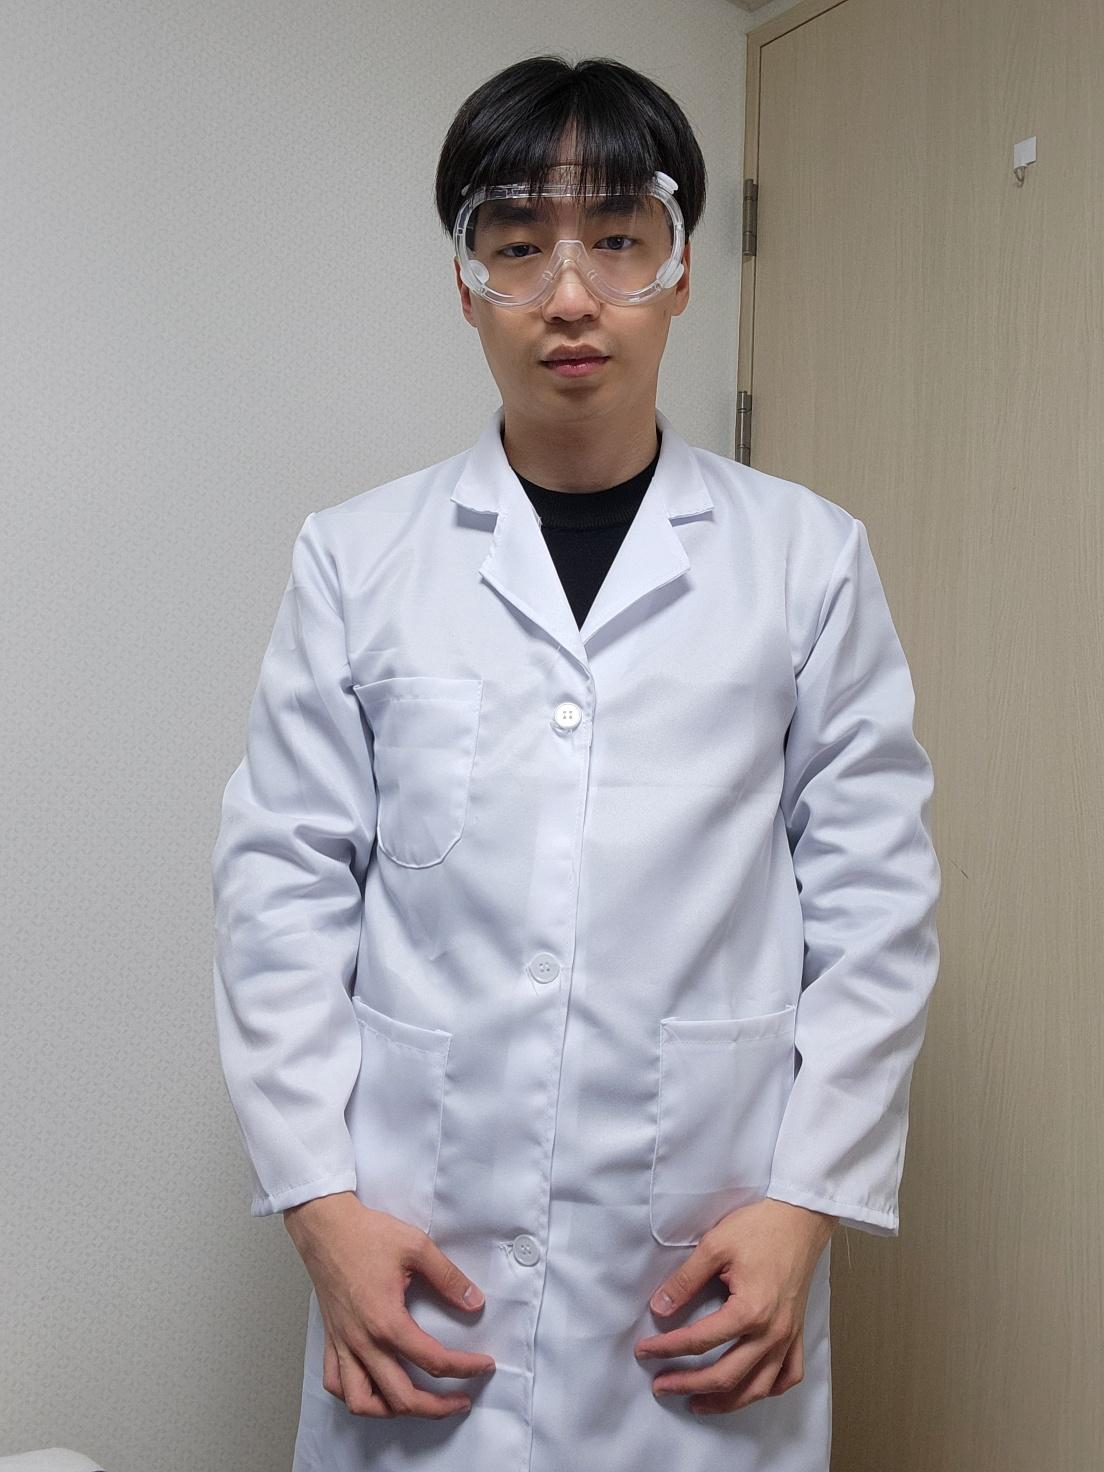lab_coat: (216, 420, 937, 1471)
